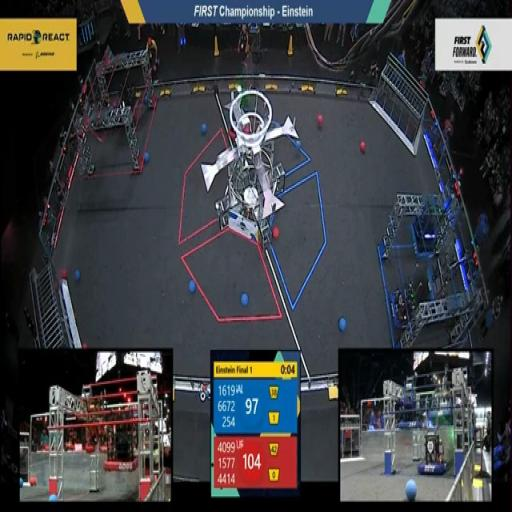robot: (409, 186, 447, 266), (424, 252, 470, 316), (82, 87, 118, 149), (386, 277, 420, 336), (111, 71, 140, 135)
